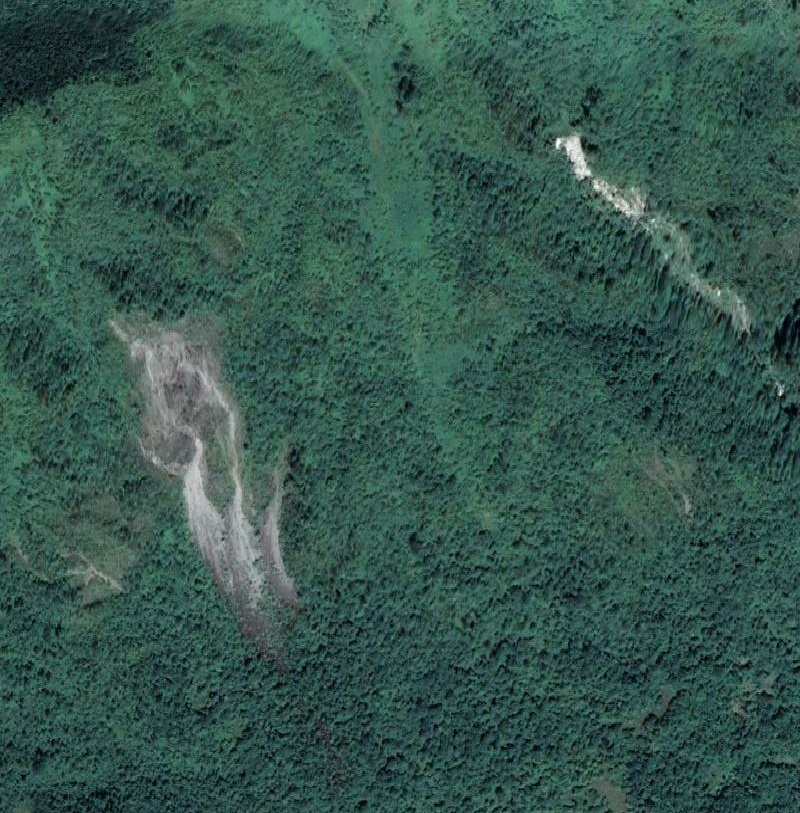slope: (111, 314, 294, 650), (552, 131, 650, 229)
